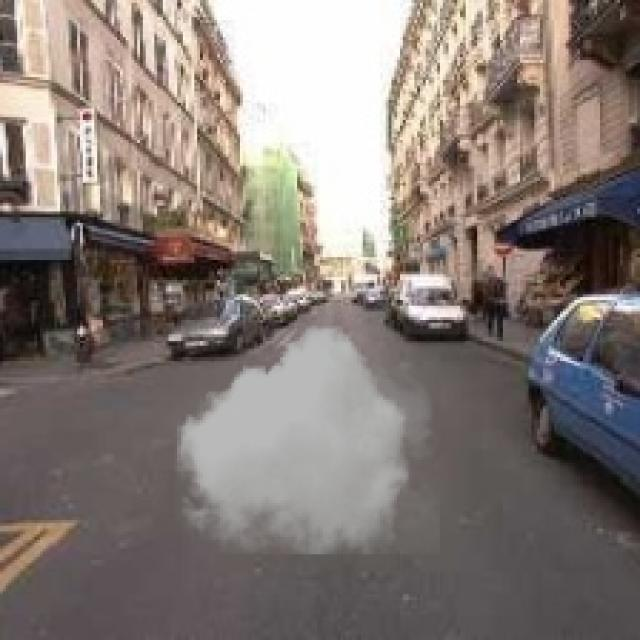smoke: (171, 326, 440, 554)
